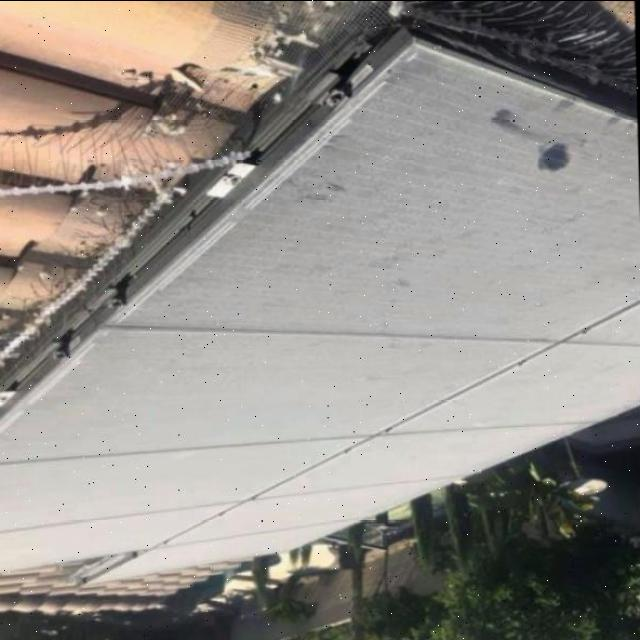Surface Contaminant: (100, 41, 640, 329), (0, 422, 617, 590), (0, 316, 571, 436), (569, 319, 640, 421)
